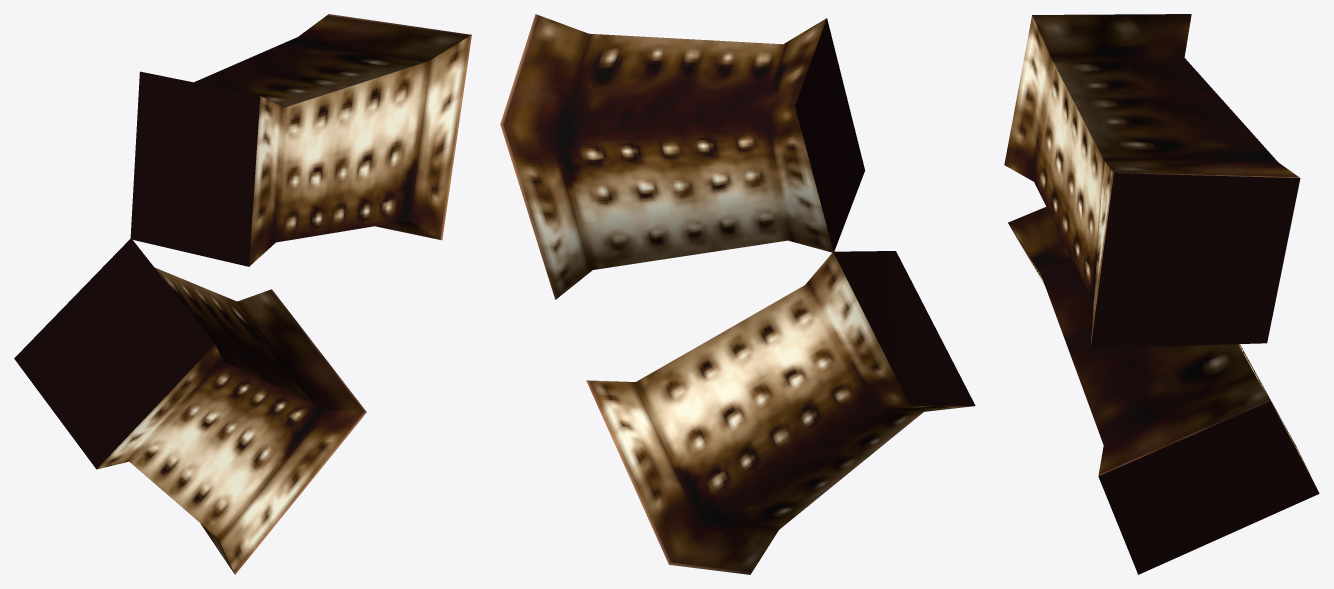
File: Item04.obj
3 views of the same model, side by side, from view 1: azimuth 30°, elevation 25°; view 2: azimuth 150°, elevation 25°; view 3: azimuth 270°, elevation 25° (orthographic). The views are drawn at different scales.
Visible parts, largest first — view 1: 0; view 2: 0; view 3: 0.
Part boxes in pixels (bbox=[...]): 0: bbox=[14, 14, 471, 574]; 0: bbox=[500, 14, 975, 574]; 0: bbox=[1004, 14, 1319, 574].
Size of the model in its own units: 13.99 by 16.85 by 8.8.
